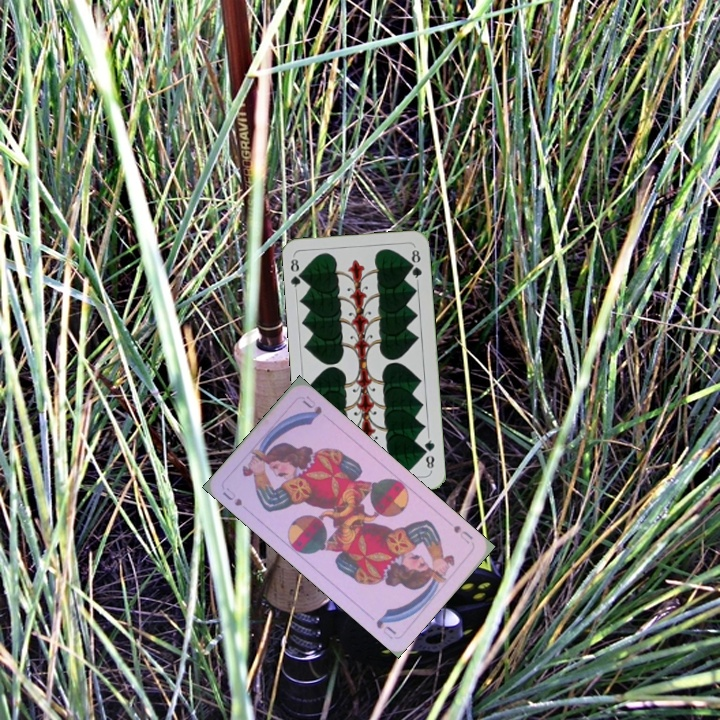G8: (286, 255, 306, 294), (420, 433, 437, 473)
SU: (449, 521, 475, 547), (218, 484, 245, 509)
